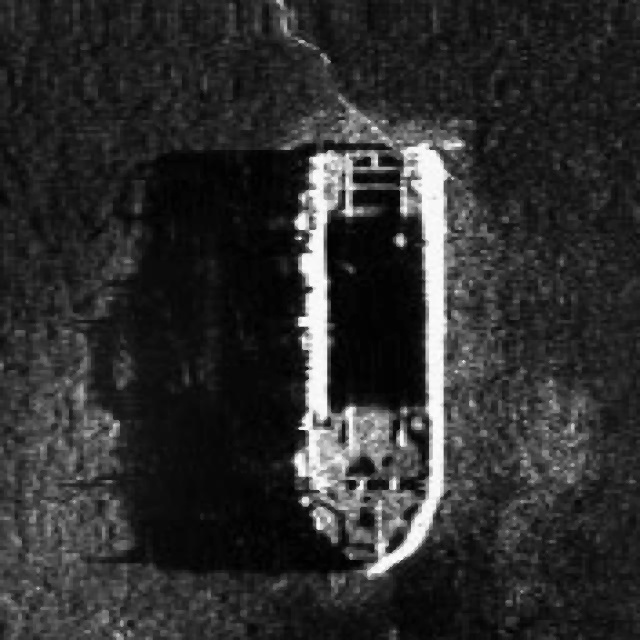Ship: (261, 105, 463, 594)
